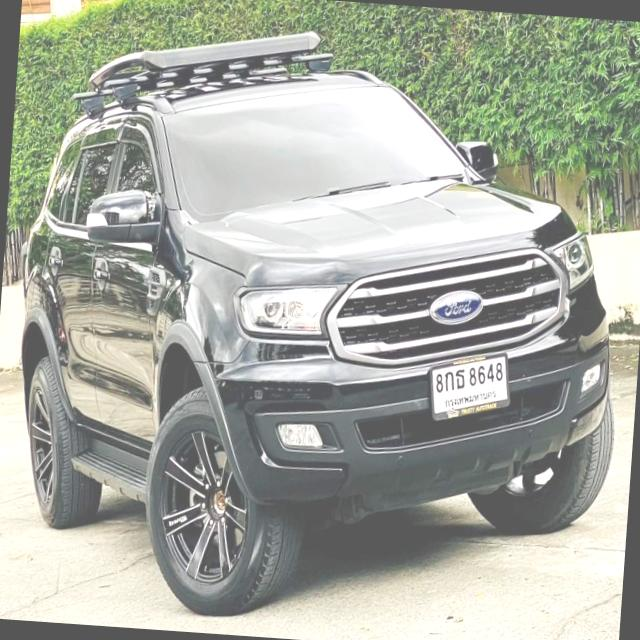license_plate: (422, 346, 514, 430)
